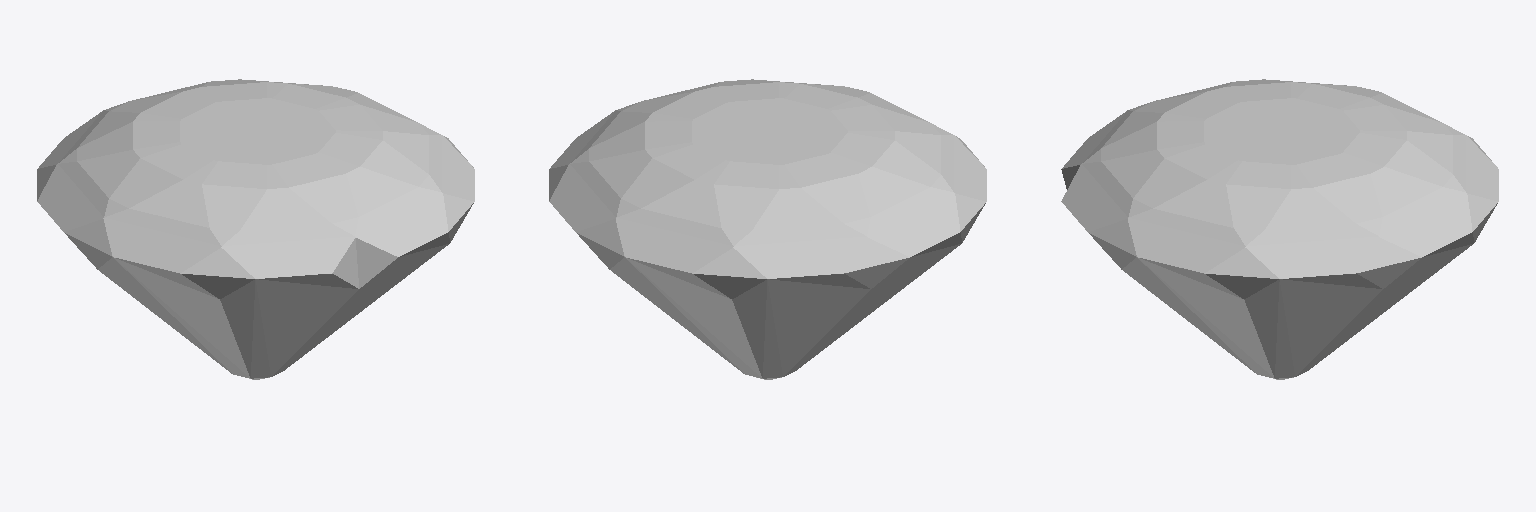
Rendered from Diamond.obj.
The picture shows the model from 3 angles: view 1: azimuth 30°, elevation 25°; view 2: azimuth 150°, elevation 25°; view 3: azimuth 270°, elevation 25°; orthographic projection.
Visible parts, largest first — view 1: Diamond_Cone.001; view 2: Diamond_Cone.001; view 3: Diamond_Cone.001.
Boxes of the visible parts, box(x1,y1,x2,y2) form: Diamond_Cone.001: box(37, 79, 474, 379); Diamond_Cone.001: box(549, 79, 986, 379); Diamond_Cone.001: box(1061, 79, 1498, 379).
Size of the model in its own units: 1.91 by 1.18 by 1.88.